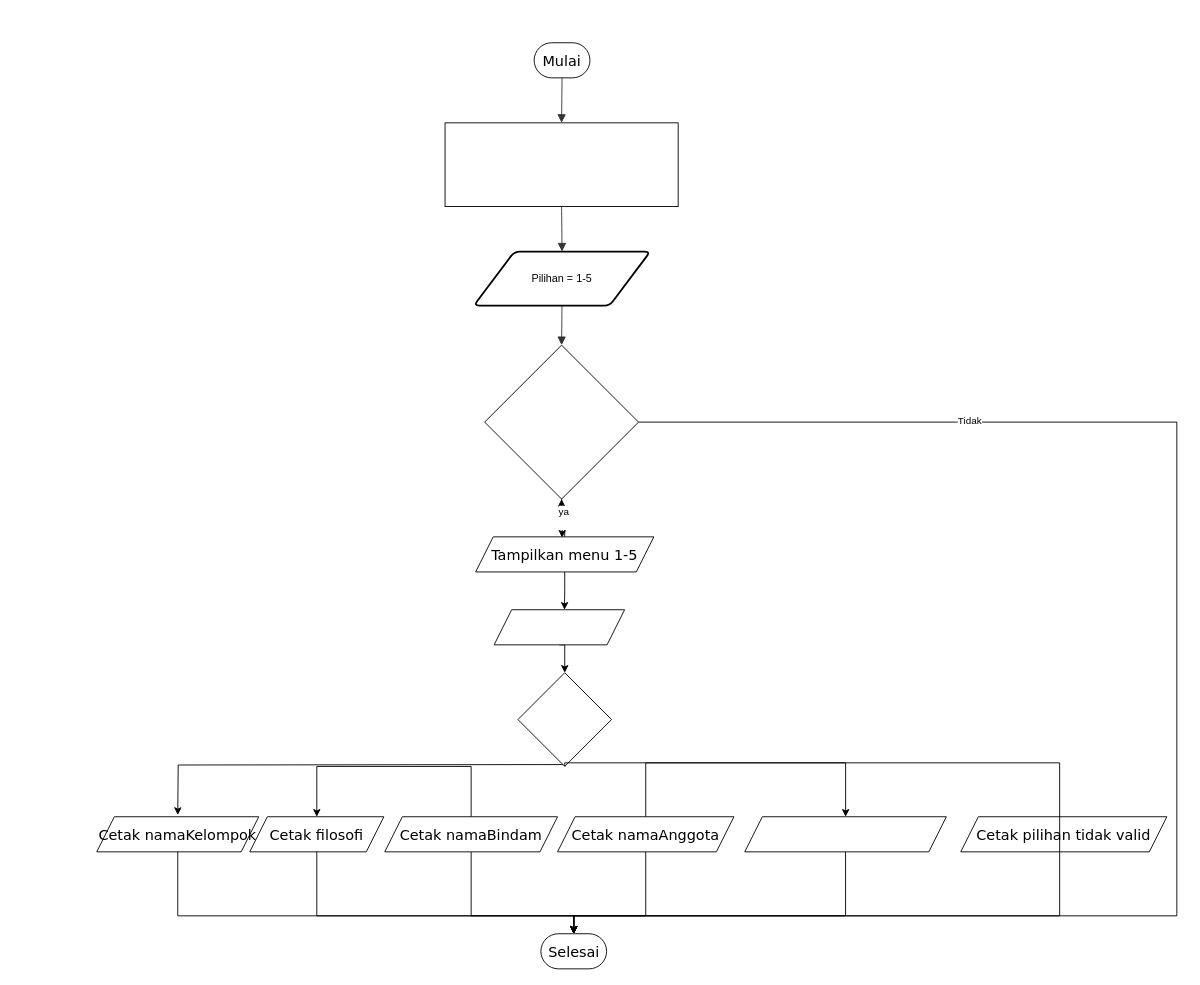
This 1200x985 diagram has some shape labels left out. The box of each missing label's shape, as (x1, y1, x2, y2) in pixels:
Cetak pesan perpisahan: (744, 816, 946, 852)
Inisialisasi variabel: namaKelompok, filosofi, namaBindam, namaAnggota: (444, 122, 678, 207)
Input pilihan: (493, 609, 625, 645)
pilihan != '5' ?: (484, 344, 639, 499)
pilihan?: (517, 672, 612, 766)
